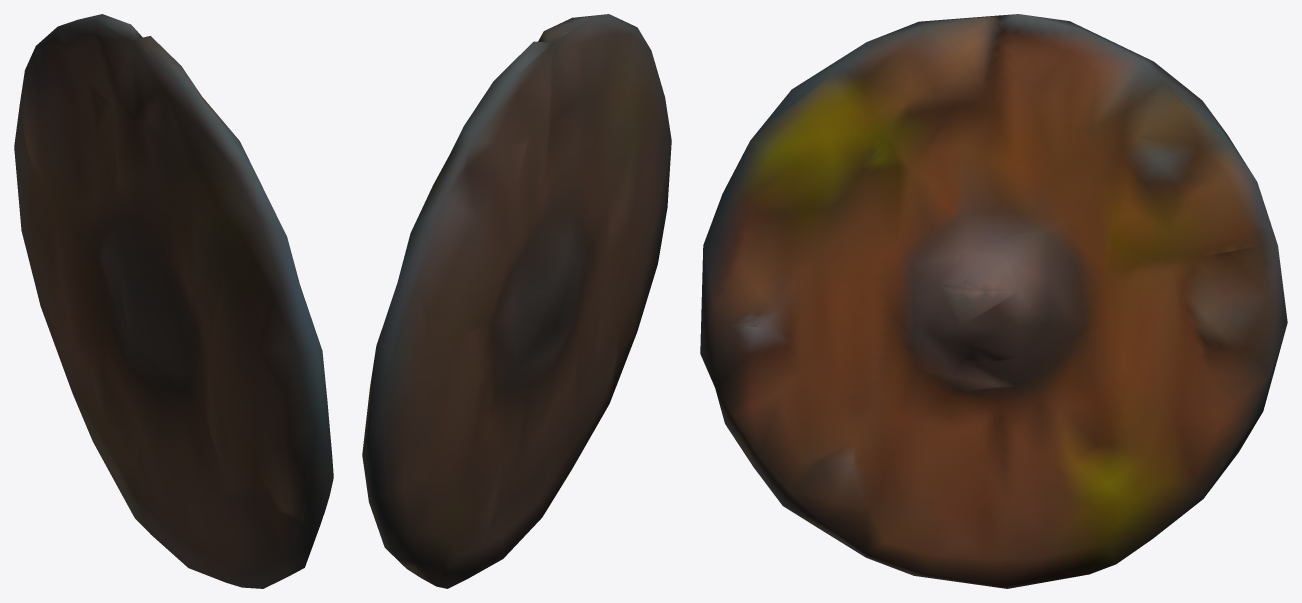
The model's file is shield_stone.glb.
The picture shows the model from 3 angles, left to right: view 1: azimuth 30°, elevation 25°; view 2: azimuth 150°, elevation 25°; view 3: azimuth 270°, elevation 25°; orthographic projection.
Parts seen in each view (by area): view 1: model; view 2: model; view 3: model.
Boxes of the visible parts, left/top/right/bottom form: model: left=14, top=14, right=333, bottom=588; model: left=362, top=14, right=671, bottom=588; model: left=700, top=14, right=1287, bottom=588.
Bounding box in the file's own units: 0.1093 × 0.7015 × 0.6819.
Materials: 1 (1 with a texture image).
